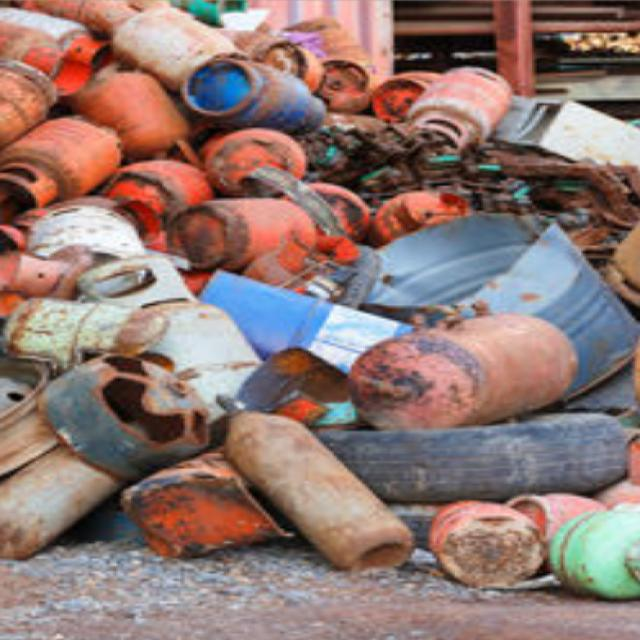cylinder: (215, 393, 415, 574), (74, 258, 261, 404), (180, 56, 325, 137), (1, 117, 122, 209), (406, 67, 514, 153)
